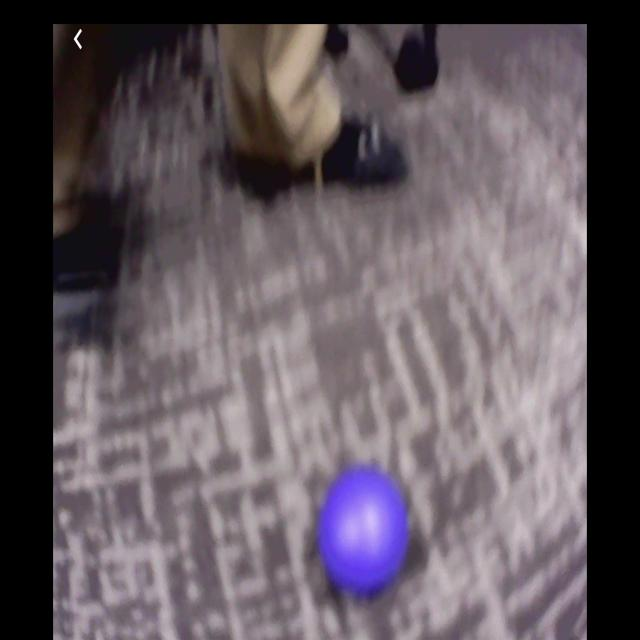ball: (323, 469, 409, 589)
